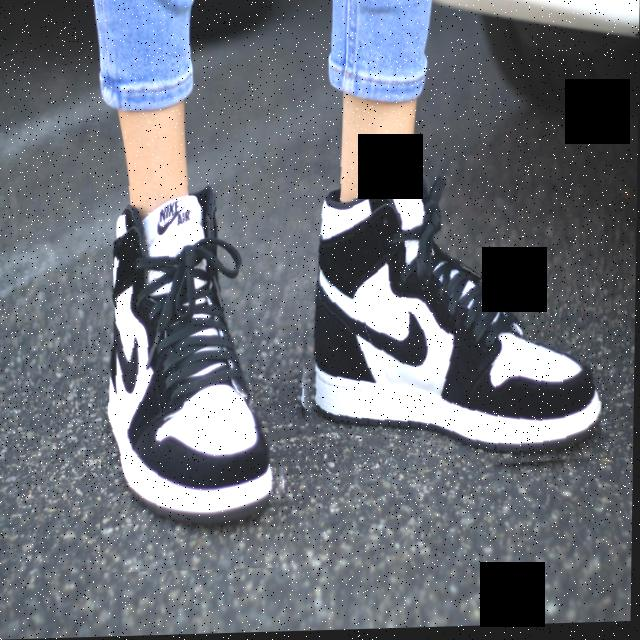shoe: (290, 156, 606, 481), (101, 169, 300, 573)
